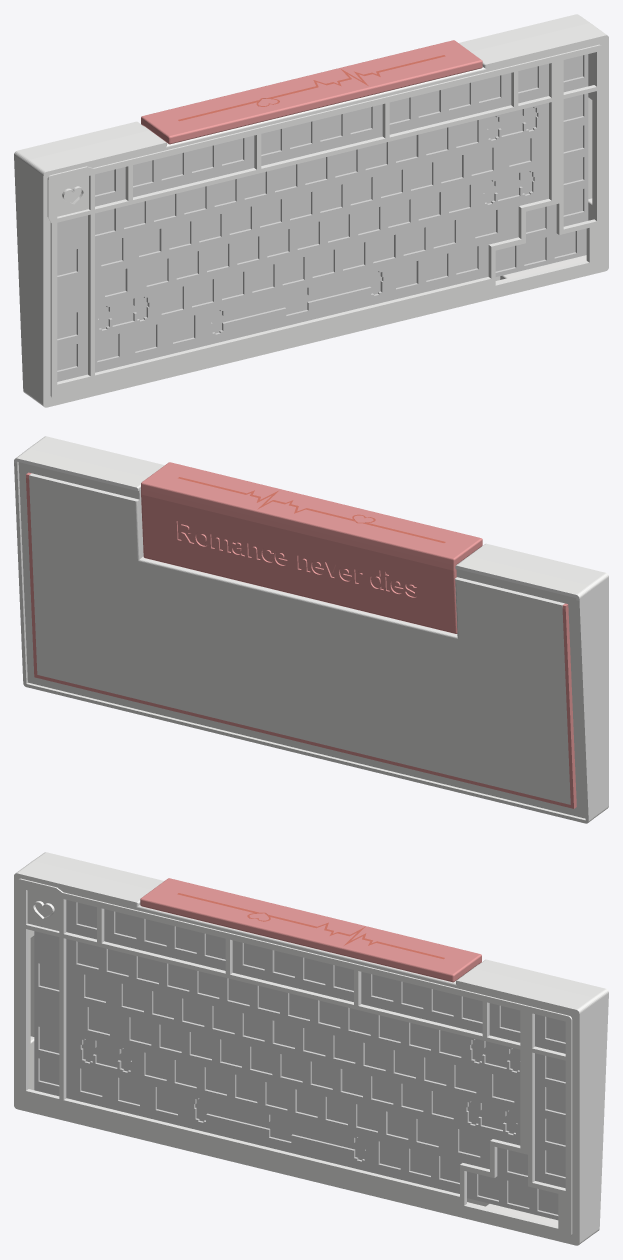
The picture shows the model from 3 angles, top to bottom: view 1: azimuth 30°, elevation 25°; view 2: azimuth 150°, elevation 25°; view 3: azimuth 330°, elevation 25°; orthographic projection.
Visible parts, largest first — view 1: Part__Feature006, Part__Feature001, Part__Feature002, Part__Feature, Part__Feature003, Part__Feature004; view 2: Part__Feature004, Part__Feature002, Part__Feature001, Part__Feature005, Part__Feature003; view 3: Part__Feature006, Part__Feature001, Part__Feature002, Part__Feature, Part__Feature003, Part__Feature004.
Boxes of the visible parts, x1,y1,x2,y2 form: Part__Feature006: (57,54,588,381); Part__Feature001: (14,14,608,407); Part__Feature002: (141,40,482,144); Part__Feature: (167,52,594,282); Part__Feature003: (178,55,445,121); Part__Feature004: (144,54,592,280); Part__Feature004: (18,462,585,818); Part__Feature002: (141,462,482,633); Part__Feature001: (14,436,608,823); Part__Feature005: (26,472,576,808); Part__Feature003: (178,477,445,542); Part__Feature006: (34,900,565,1220); Part__Feature001: (14,852,608,1245); Part__Feature002: (140,878,481,982); Part__Feature: (28,930,558,1225); Part__Feature003: (177,893,444,959); Part__Feature004: (30,931,558,1220).
Bounding box in the file's own units: 356 × 145 × 34.33.
